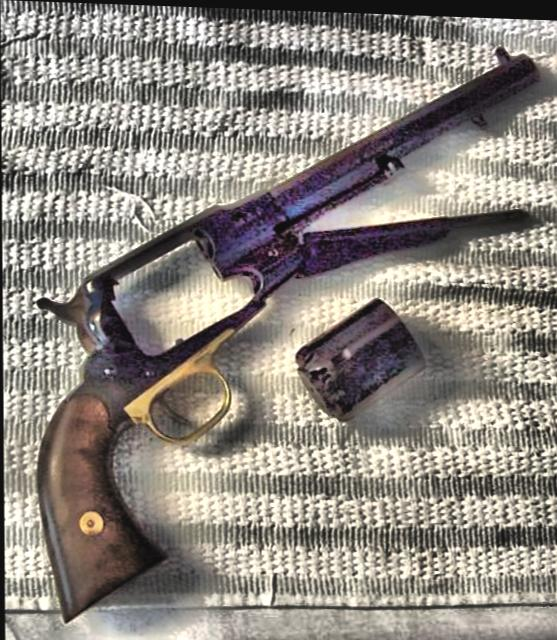pistol: (17, 27, 543, 640)
